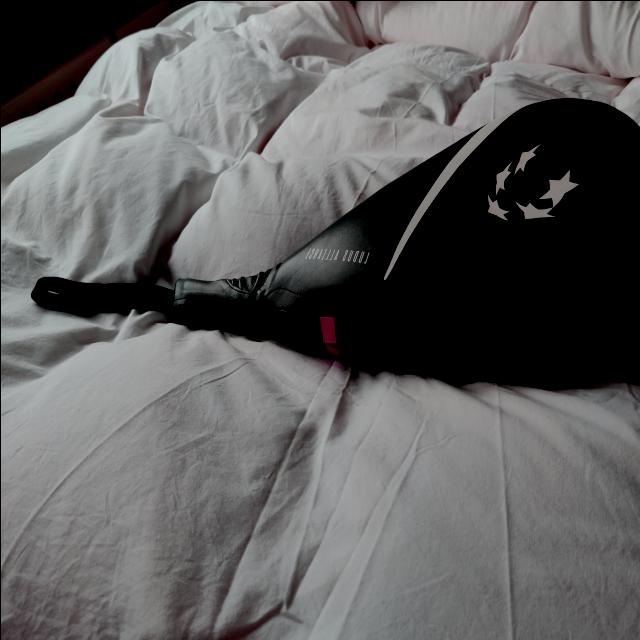paddle: (170, 93, 640, 376)
